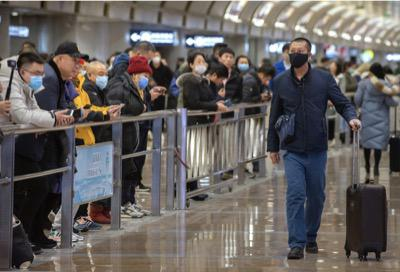mask_weared_incorrect: (193, 57, 206, 74)
with_mask: (25, 67, 45, 90), (288, 46, 308, 67), (94, 69, 108, 89), (136, 72, 149, 89), (237, 59, 249, 72), (152, 53, 161, 64)
without_mask: (60, 56, 79, 77), (221, 53, 234, 67), (212, 76, 225, 86), (259, 76, 270, 85)
